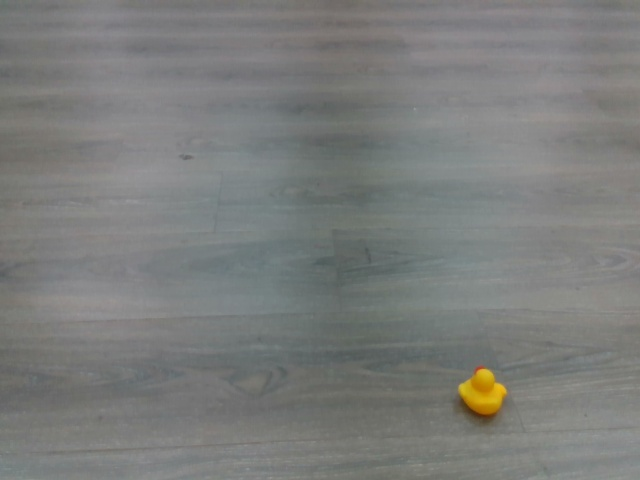duck: (452, 363, 516, 418)
